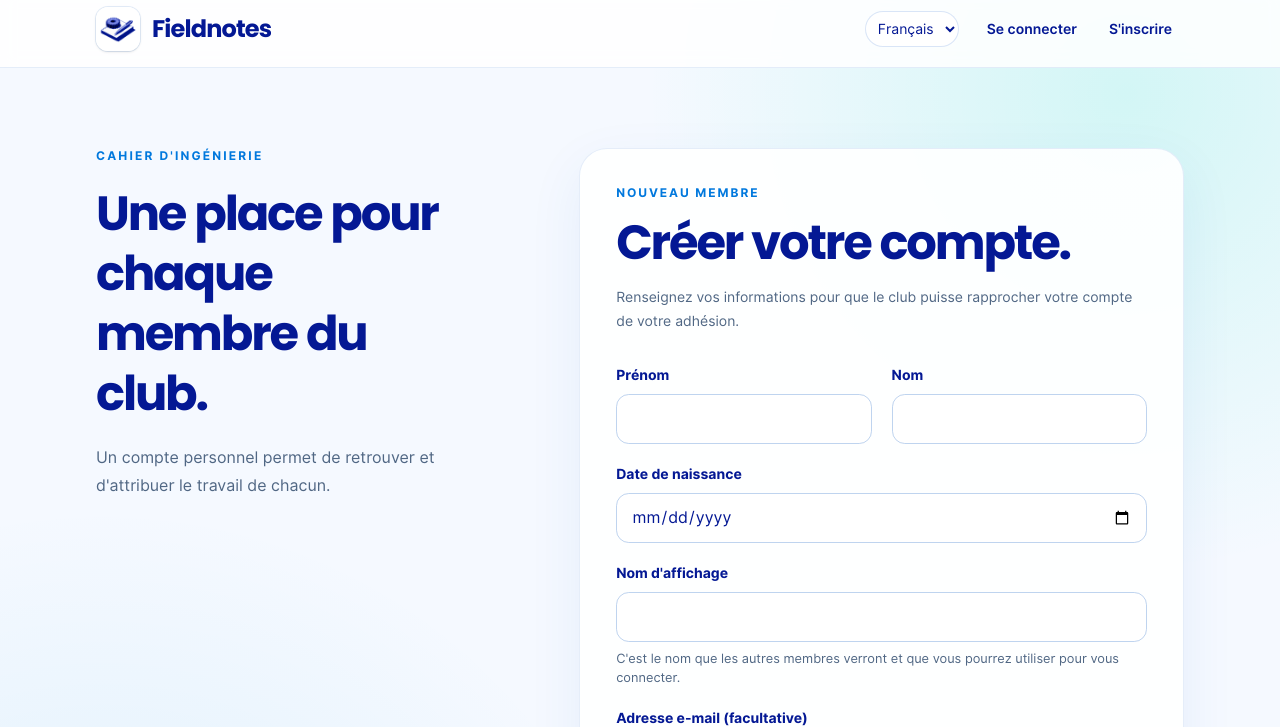
updates existing validation errors without clearing inputs on /signup
Type "Lina" into the field labelled "Nom d'affichage" at (882,617), box [616,592,1147,642]
(page scrolled)
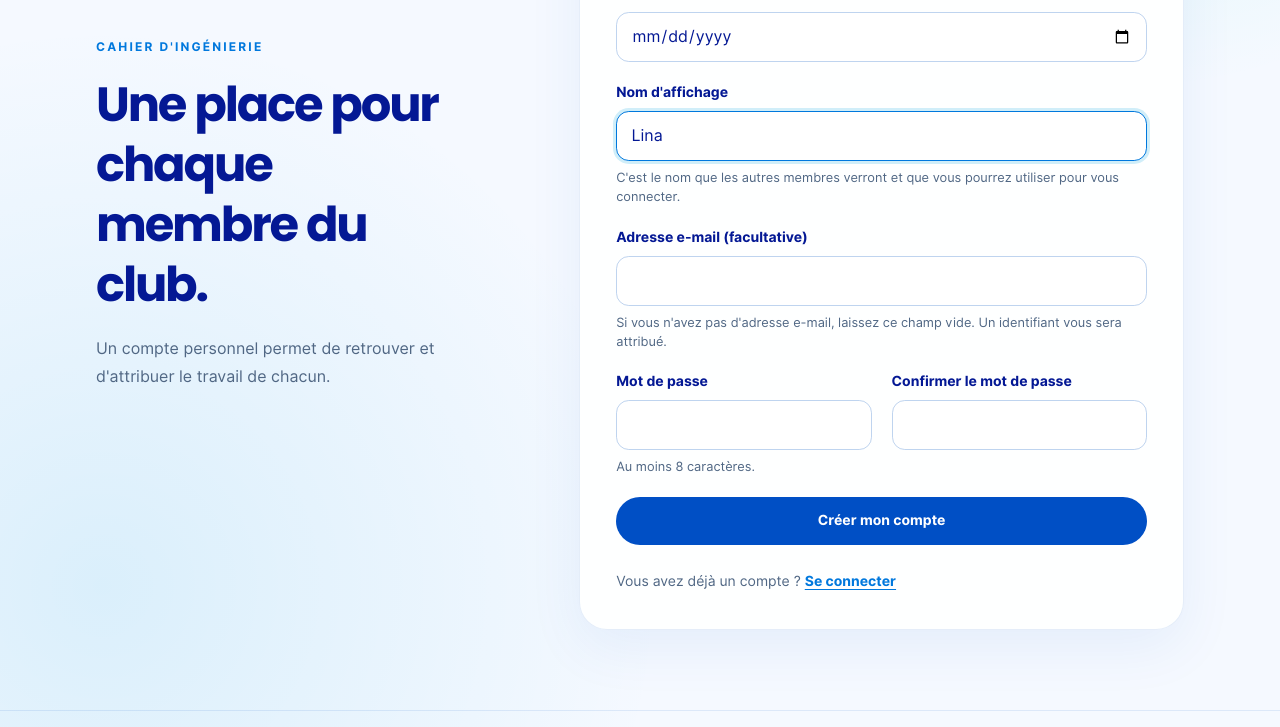
Click the button "Créer mon compte" at (882,521), box [616,496,1147,545]
(page scrolled)
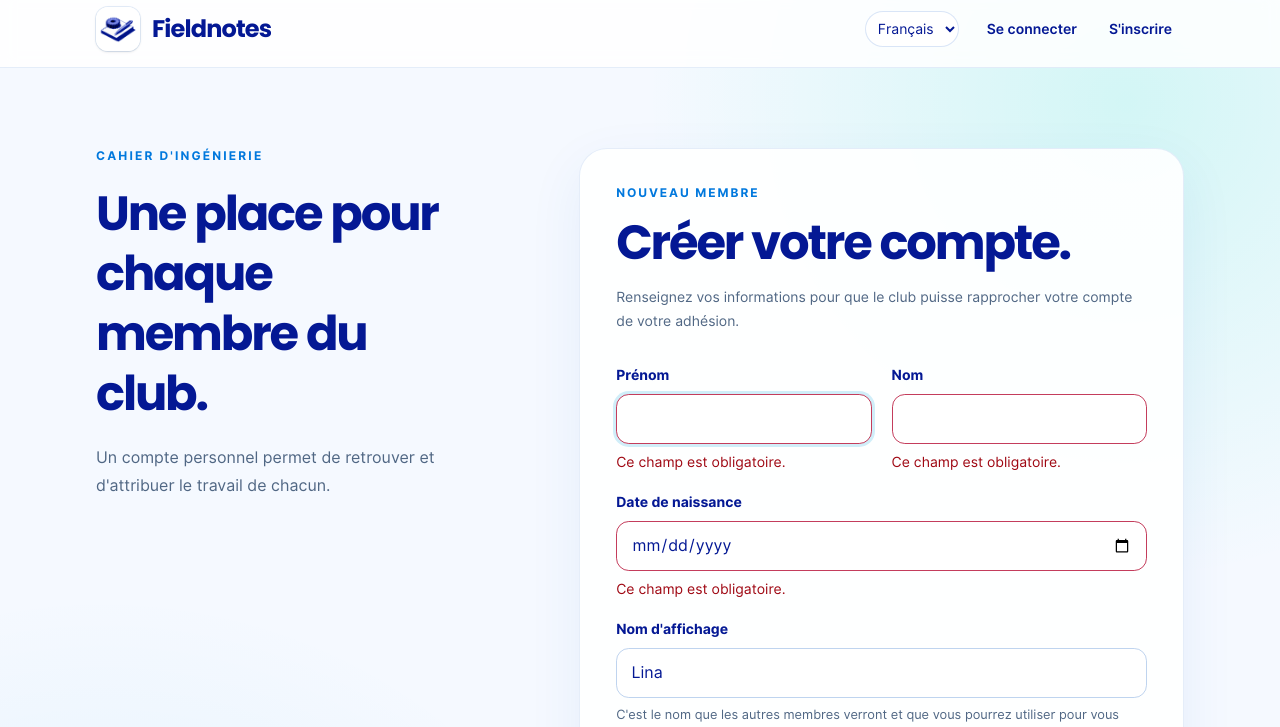
Expected: the text "Ce champ est obligatoire." below "Prénom" is shown, [616,454,786,470]
Select "Español" in the dropdown named "Langue" at (912,29), box [865,11,959,47]
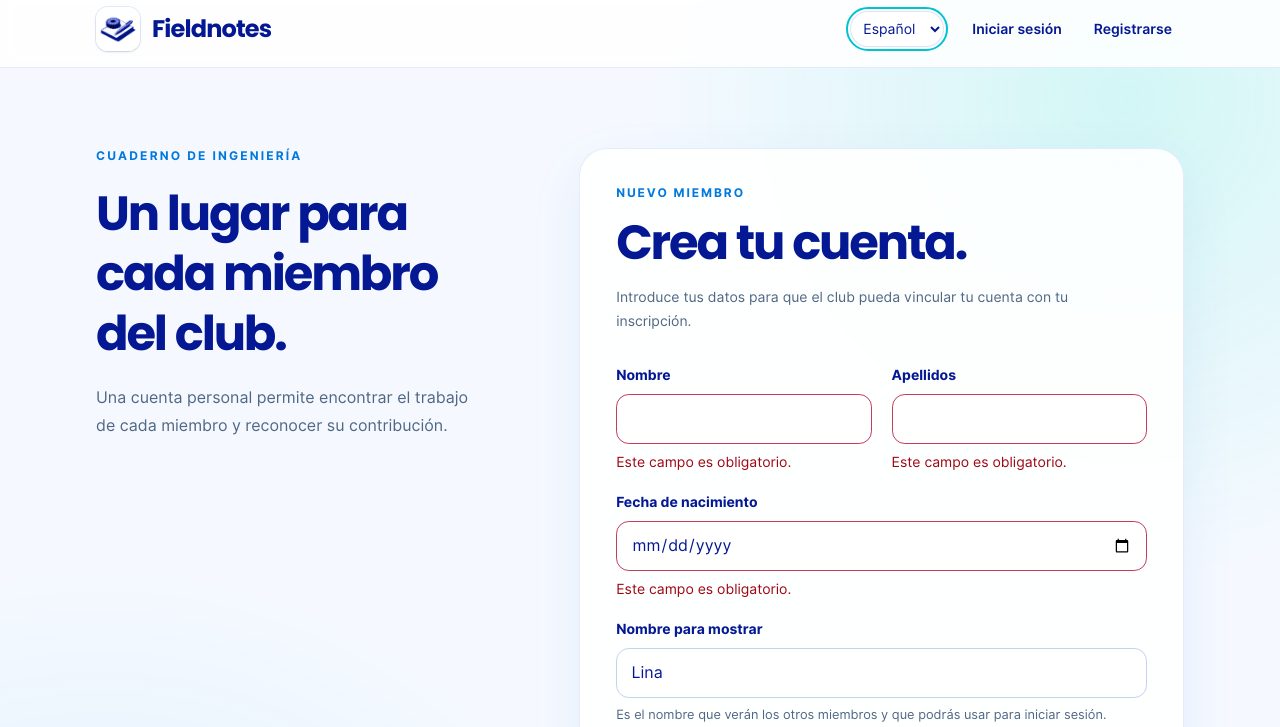
Expected: the text "Ce champ est obligatoire." is not shown
Expected: the 1st text "Este campo es obligatorio." is shown, [616,454,791,470]
